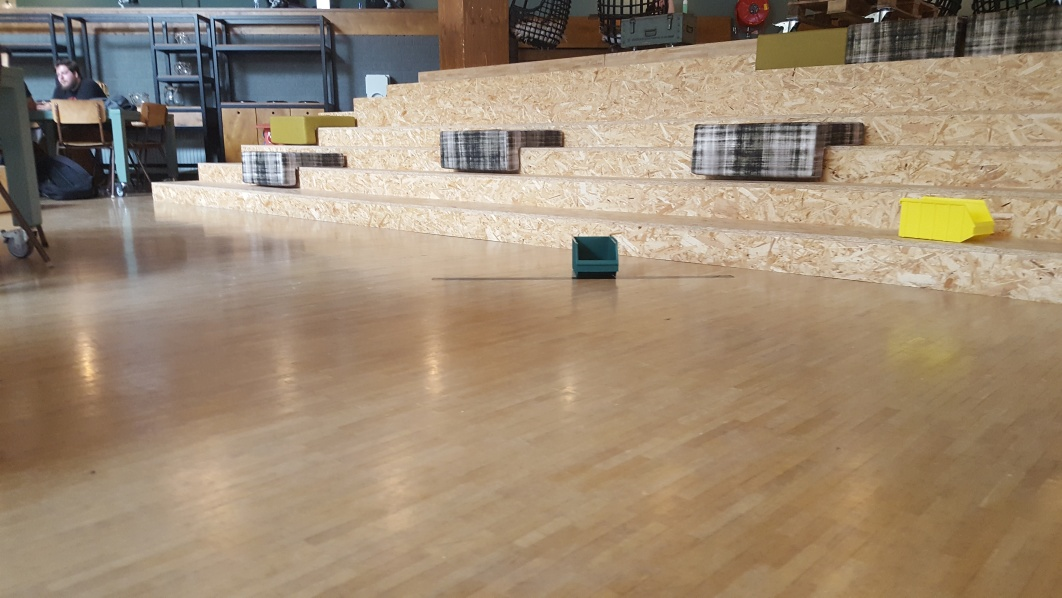tray: (892, 190, 998, 243), (566, 233, 622, 276)
